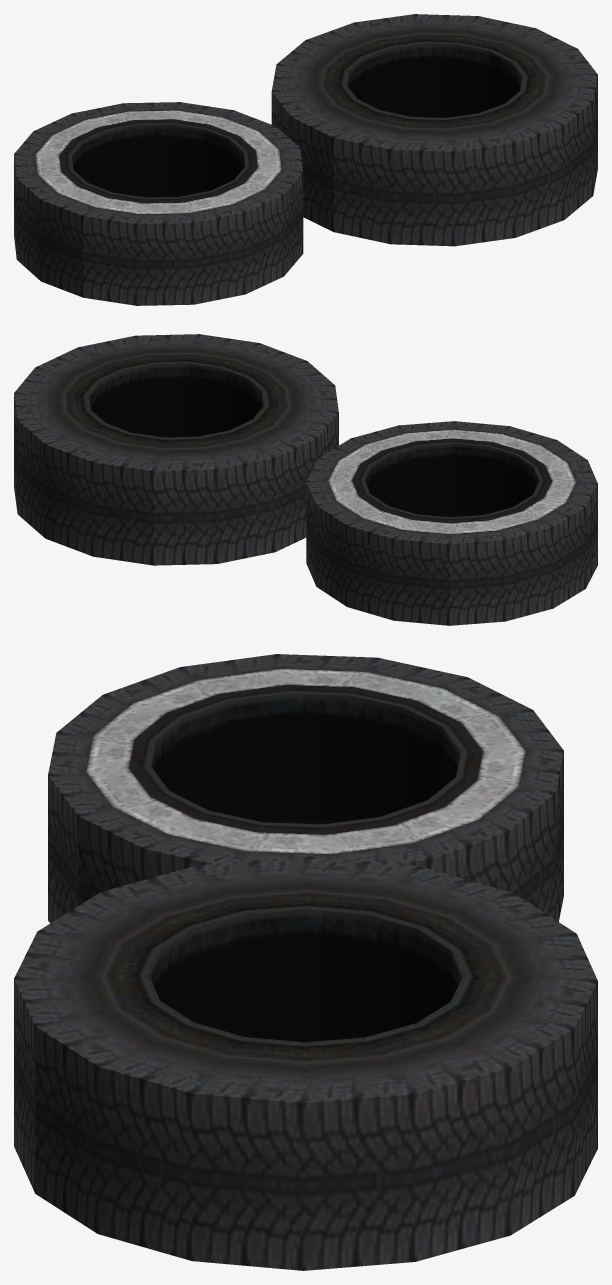
Rendered from tire_two.fbx.
3 views of the same model, one above another, from view 1: azimuth 30°, elevation 25°; view 2: azimuth 150°, elevation 25°; view 3: azimuth 270°, elevation 25° (orthographic). The views are drawn at different scales.
Visible parts, largest first — view 1: mesh_0; view 2: mesh_0; view 3: mesh_0.
Boxes of the visible parts, <box> form: mesh_0: <box>14,14,597,305</box>; mesh_0: <box>14,334,597,625</box>; mesh_0: <box>14,654,597,1270</box>.
Size of the model in its own units: 135 by 22.96 by 70.8.
Materials: 1 (1 with a texture image).
